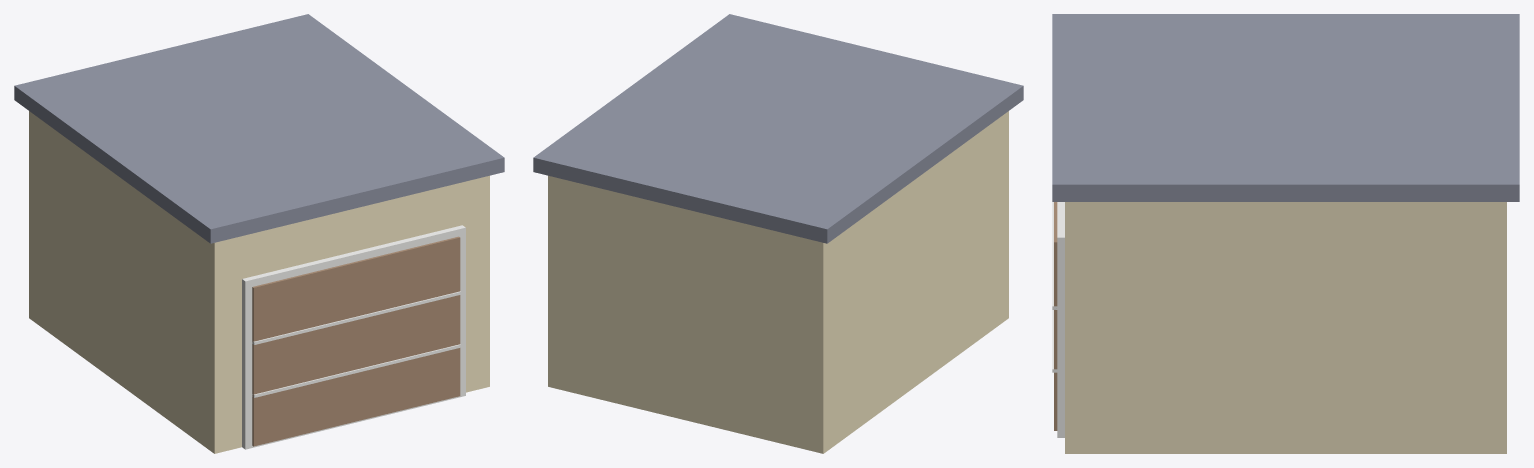
Rendered from rumah_garasi.fbx.
3 views of the same model, side by side, from view 1: azimuth 30°, elevation 25°; view 2: azimuth 150°, elevation 25°; view 3: azimuth 270°, elevation 25° (orthographic). The views are drawn at different scales.
Parts seen in each view (by area): view 1: ShellRoof, ShellWall, ShellDoor, ShellTrim; view 2: ShellWall, ShellRoof; view 3: ShellWall, ShellRoof, ShellTrim, ShellDoor.
Boxes of the visible parts, x1,y1,x2,y2 form: ShellRoof: [14, 14, 504, 243]; ShellWall: [29, 111, 489, 453]; ShellDoor: [252, 236, 460, 446]; ShellTrim: [242, 225, 465, 449]; ShellWall: [548, 111, 1008, 453]; ShellRoof: [533, 14, 1023, 243]; ShellWall: [1065, 202, 1506, 453]; ShellRoof: [1052, 14, 1519, 201]; ShellTrim: [1052, 202, 1064, 437]; ShellDoor: [1054, 202, 1057, 430].
Bounding box in the file's own units: 12.8 × 10.4 × 14.8.
